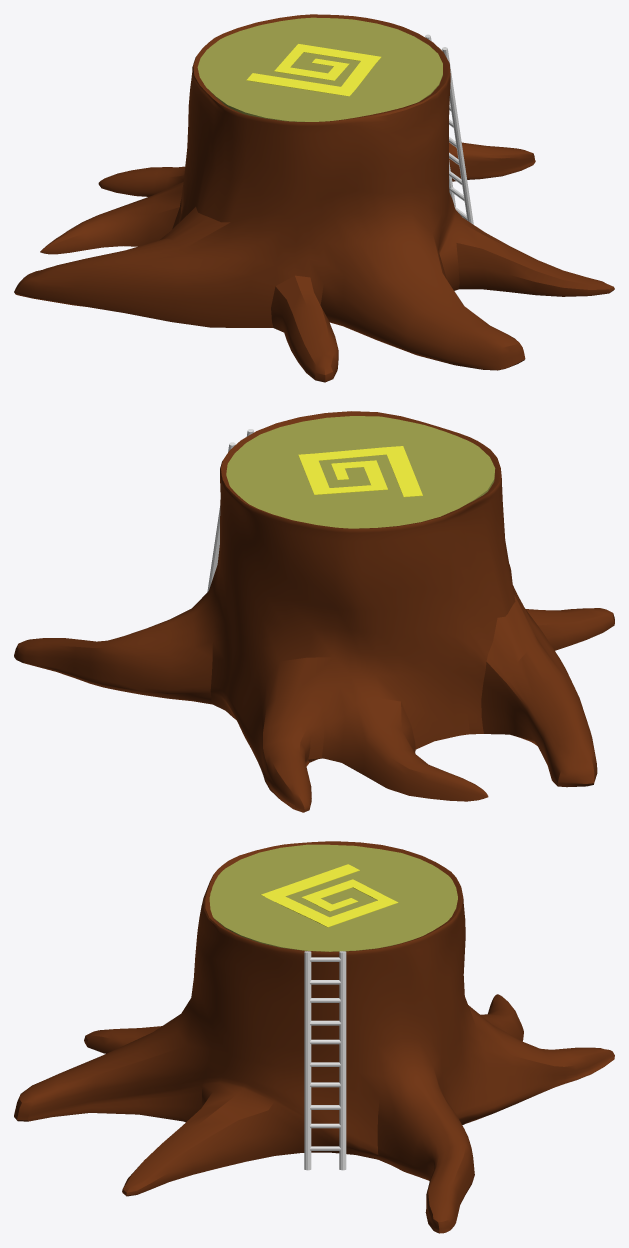
The model's file is Tree stumbba.fbx.
The picture shows the model from 3 angles, top to bottom: view 1: azimuth 30°, elevation 25°; view 2: azimuth 150°, elevation 25°; view 3: azimuth 270°, elevation 25°; orthographic projection. The views are drawn at different scales.
Parts seen in each view (by area): view 1: STUMP, Top, Middle top, Ladder; view 2: STUMP, Top, Middle top; view 3: STUMP, Top, Ladder, Middle top.
Boxes of the visible parts, bbox=[...] form: STUMP: bbox=[14, 14, 614, 382]; Top: bbox=[197, 17, 442, 121]; Middle top: bbox=[246, 44, 381, 96]; Ladder: bbox=[425, 34, 473, 224]; STUMP: bbox=[14, 411, 614, 812]; Top: bbox=[226, 416, 495, 528]; Middle top: bbox=[298, 446, 422, 497]; STUMP: bbox=[14, 841, 614, 1233]; Top: bbox=[209, 844, 457, 951]; Ladder: bbox=[304, 951, 346, 1170]; Middle top: bbox=[261, 864, 398, 927].
Size of the model in its own units: 18.82 by 6.93 by 17.95.
